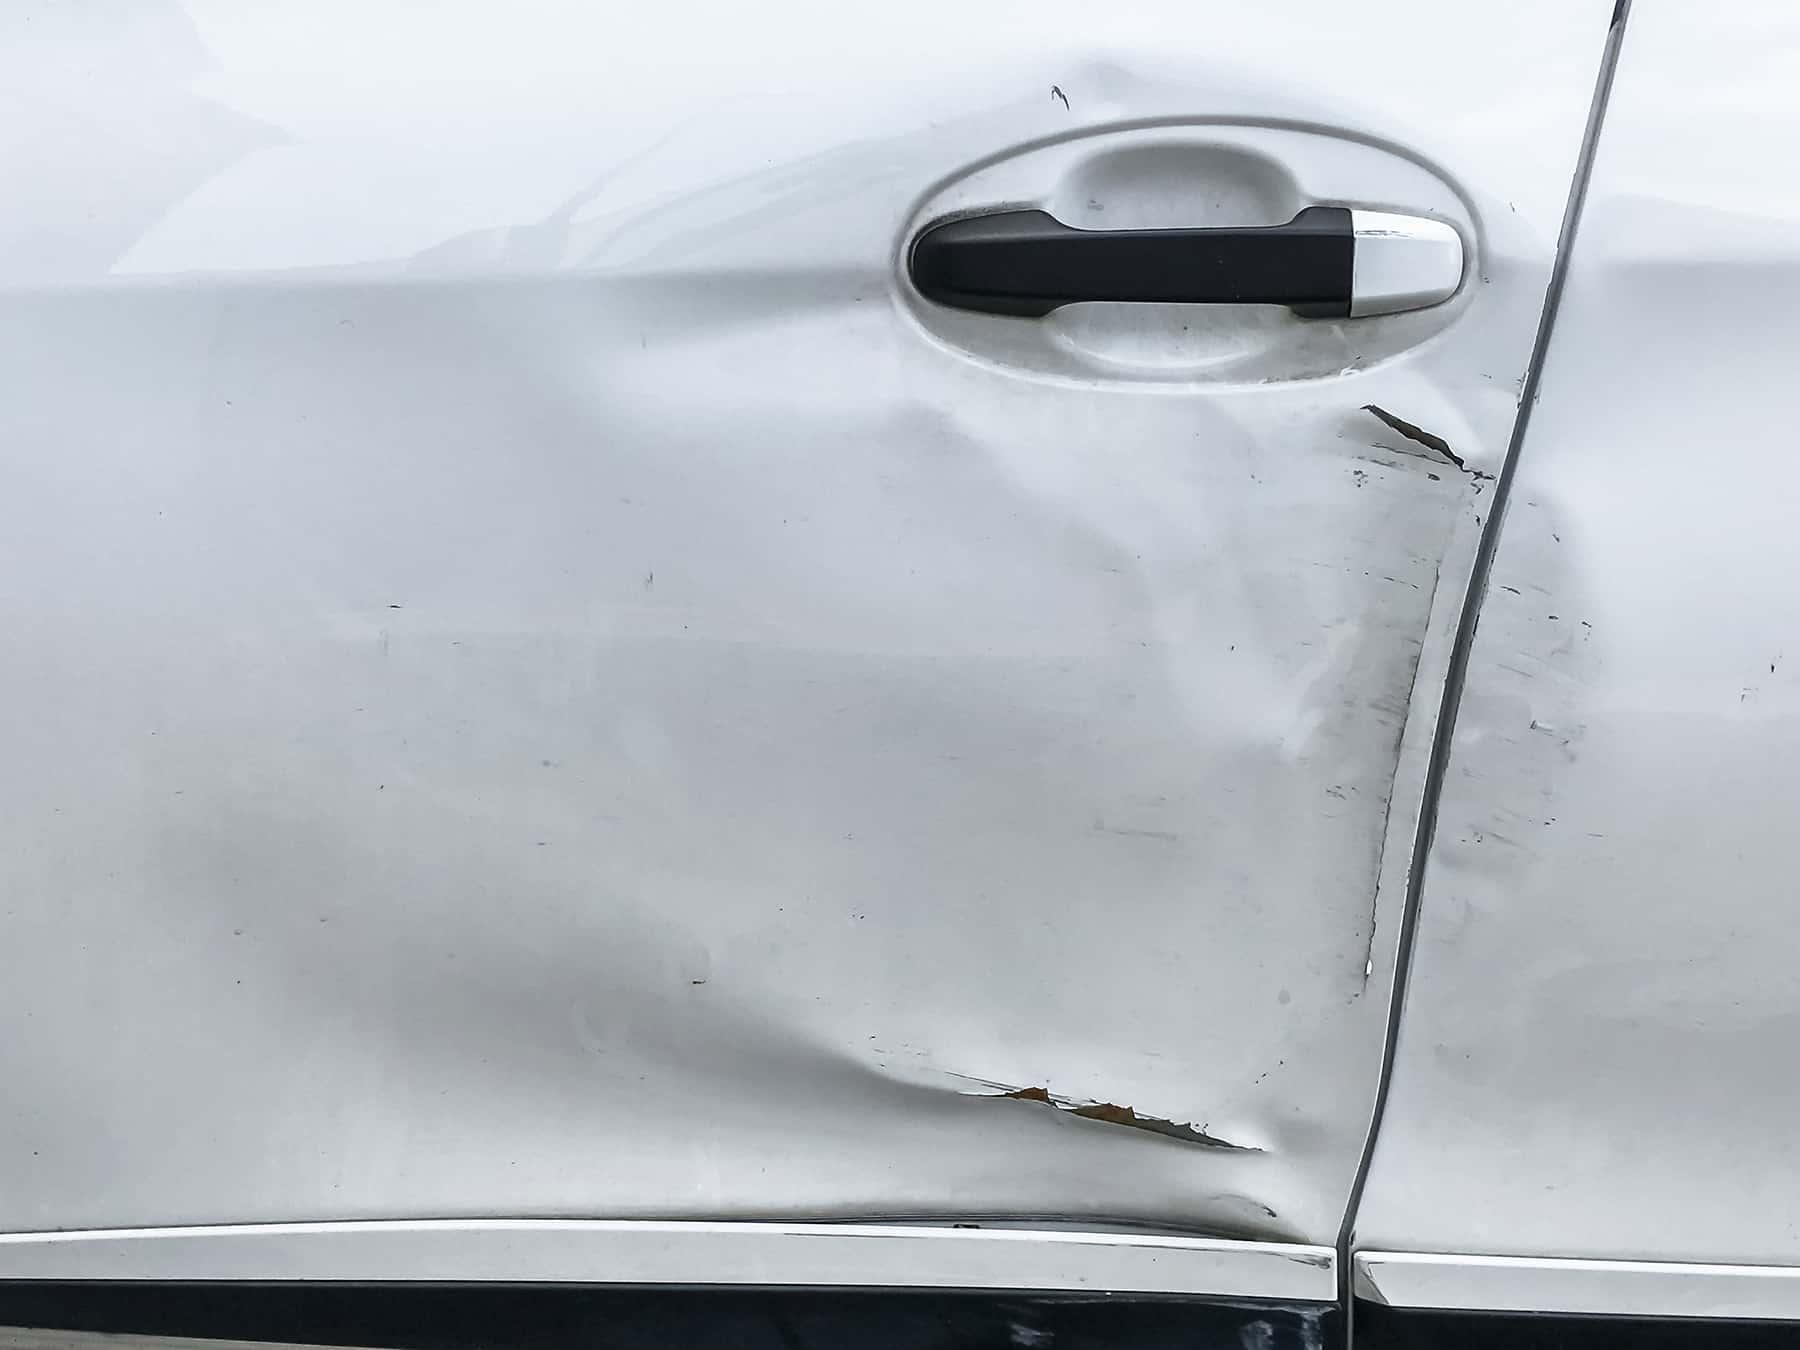dent: (787, 967, 1307, 1303)
scratch: (903, 1034, 1297, 1207), (1334, 393, 1519, 506)
